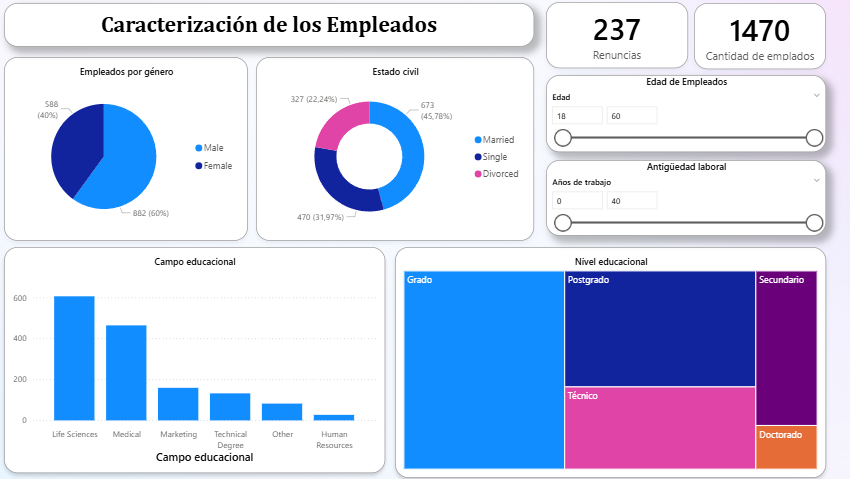

What the dashboard file says about the page in this screenshot:
{"tool":"powerbi","page":{"name":"Caracterizacíon","canvas":[1280,720],"ordinal":0},"visuals":[{"type":"pieChart","title":"Empleados por género","fields":{"Category":["HR-Employee.Gender"],"Y":["Sum(HR-Employee.EmployeeCount)"]},"box":[13.2,95.1,357.1,269.3],"z":0},{"type":"clusteredColumnChart","title":"Campo educacional","fields":{"Category":["HR-Employee.EducationField"],"Y":["Sum(HR-Employee.EmployeeCount)"]},"box":[13.2,373.2,557.6,330.7],"z":1000},{"type":"treemap","title":"Nivel educacional","fields":{"Group":["HR-Employee.Education"],"Values":["Sum(HR-Employee.EmployeeCount)"]},"box":[585.4,373.2,630.7,338],"z":2000},{"type":"donutChart","title":"Estado civil","fields":{"Category":["HR-Employee.MaritalStatus"],"Y":["Sum(HR-Employee.EmployeeCount)"]},"box":[382,95.1,406.8,269.3],"z":3000},{"type":"card","fields":{"Values":["Sum(HR-Employee.EmployeeCount)"]},"box":[1022.9,16.1,193.2,96.6],"z":4000},{"type":"card","fields":{"Values":["CountNonNull(HR-Employee.Attrition)"]},"box":[806.3,14.6,207.8,96.6],"z":5000},{"type":"slicer","title":"Edad de Empleados","fields":{"Values":["HR-Employee.Age"]},"box":[806.3,121.5,409.8,112.7],"z":6000},{"type":"slicer","title":"Antigüedad laboral","fields":{"Values":["HR-Employee.TotalWorkingYears"]},"box":[806.3,245.9,409.8,111.2],"z":7000},{"type":"textbox","box":[13.2,16.1,775.6,64.4],"z":8000}]}

Visuals, with their boxes in screenshot pixels (x1, y1, x2, y2), scaled from the page's 1280x720 canvas onto the 850x479 screenshot:
"Empleados por género" pieChart: {"x1": 9, "y1": 63, "x2": 246, "y2": 242}
"Campo educacional" clusteredColumnChart: {"x1": 9, "y1": 248, "x2": 379, "y2": 468}
"Nivel educacional" treemap: {"x1": 389, "y1": 248, "x2": 808, "y2": 473}
"Estado civil" donutChart: {"x1": 254, "y1": 63, "x2": 524, "y2": 242}
card - Sum(HR-Employee.EmployeeCount): {"x1": 679, "y1": 11, "x2": 808, "y2": 75}
card - CountNonNull(HR-Employee.Attrition): {"x1": 535, "y1": 10, "x2": 673, "y2": 74}
"Edad de Empleados" slicer: {"x1": 535, "y1": 81, "x2": 808, "y2": 156}
"Antigüedad laboral" slicer: {"x1": 535, "y1": 164, "x2": 808, "y2": 238}
textbox: {"x1": 9, "y1": 11, "x2": 524, "y2": 54}
